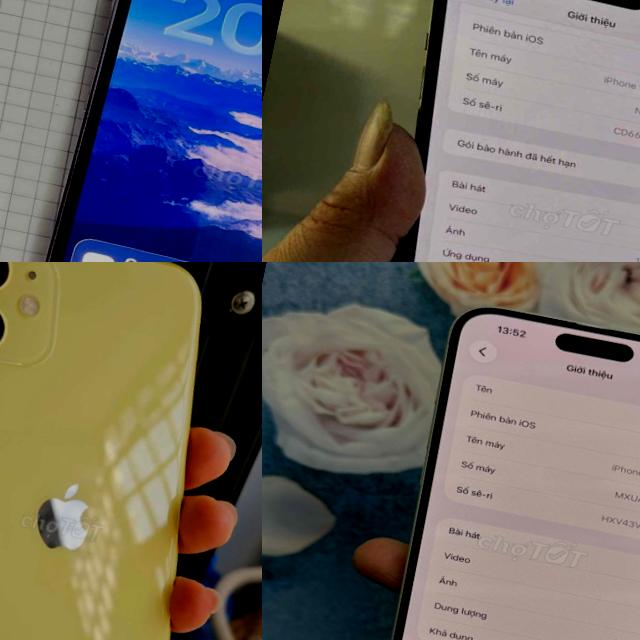gen_11: (0, 262, 200, 640)
gen_12_13: (345, 0, 640, 262), (9, 0, 262, 262)
gen_16: (353, 291, 640, 640)
